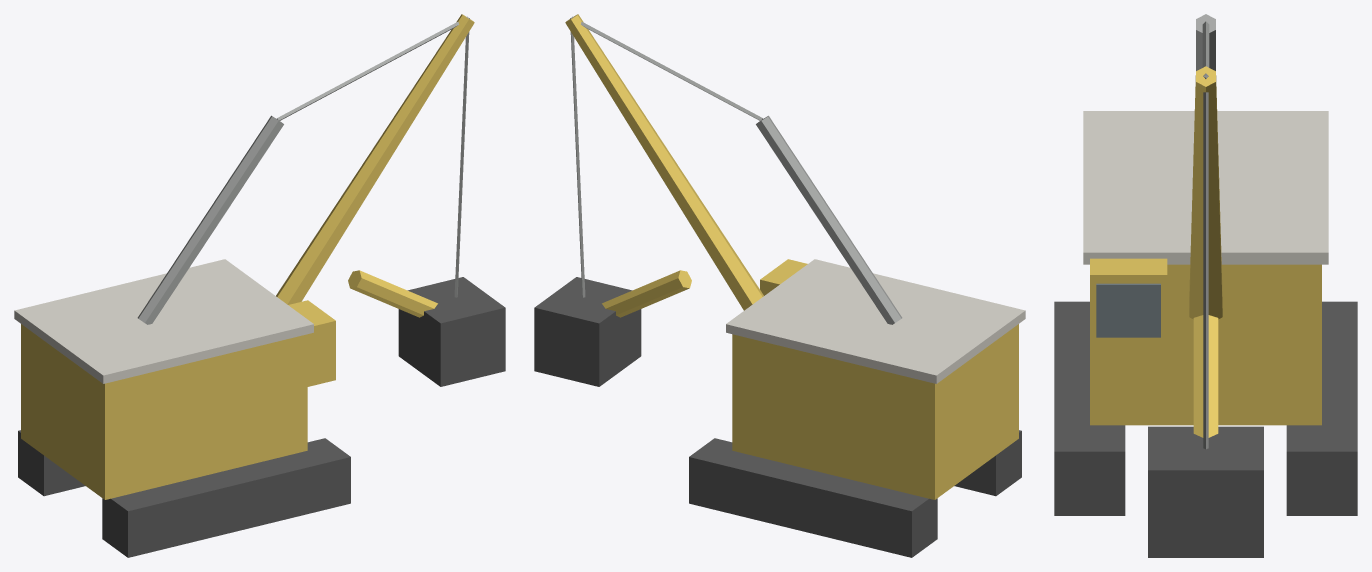
Rendered from ElectricShovel.glb.
The picture shows the model from 3 angles, left to right: view 1: azimuth 30°, elevation 25°; view 2: azimuth 150°, elevation 25°; view 3: azimuth 270°, elevation 25°; orthographic projection. The views are drawn at different scales.
Visible parts, largest first — view 1: Machine house, House roof, Crawler left, Dipper, Limb.061, Limb.062, Operator cab, Crawler right, Limb.064, Limb.065, Limb.063; view 2: Machine house, House roof, Crawler right, Dipper, Limb.061, Limb.062, Crawler left, Limb.064, Limb.065, Limb.063, Operator cab; view 3: House roof, Machine house, Dipper, Crawler left, Crawler right, Limb.061, Operator cab, Cab glass.001, Limb.064, Limb.065, Limb.062.
Part boxes in pixels (x1=…): Machine house: x1=21, y1=324, x2=307, y2=499; House roof: x1=14, y1=259, x2=313, y2=383; Crawler left: x1=102, y1=438, x2=350, y2=557; Dipper: x1=398, y1=277, x2=505, y2=386; Limb.061: x1=276, y1=14, x2=474, y2=304; Limb.062: x1=137, y1=115, x2=283, y2=324; Operator cab: x1=287, y1=300, x2=335, y2=391; Crawler right: x1=18, y1=430, x2=85, y2=496; Limb.064: x1=348, y1=270, x2=437, y2=317; Limb.065: x1=454, y1=18, x2=469, y2=297; Limb.063: x1=277, y1=16, x2=468, y2=120; Machine house: x1=732, y1=324, x2=1018, y2=499; House roof: x1=726, y1=259, x2=1025, y2=383; Crawler right: x1=689, y1=438, x2=937, y2=557; Dipper: x1=534, y1=277, x2=641, y2=386; Limb.061: x1=565, y1=14, x2=763, y2=310; Limb.062: x1=756, y1=115, x2=902, y2=324; Crawler left: x1=954, y1=430, x2=1021, y2=496; Limb.064: x1=602, y1=270, x2=691, y2=317; Limb.065: x1=570, y1=18, x2=585, y2=297; Limb.063: x1=571, y1=16, x2=762, y2=120; Operator cab: x1=760, y1=259, x2=807, y2=295; House roof: x1=1083, y1=111, x2=1328, y2=264; Machine house: x1=1090, y1=264, x2=1321, y2=425; Dipper: x1=1148, y1=426, x2=1263, y2=557; Crawler left: x1=1054, y1=301, x2=1125, y2=515; Crawler right: x1=1286, y1=301, x2=1357, y2=515; Limb.061: x1=1189, y1=66, x2=1222, y2=319; Operator cab: x1=1090, y1=258, x2=1167, y2=356; Cab glass.001: x1=1096, y1=283, x2=1160, y2=337; Limb.064: x1=1193, y1=315, x2=1218, y2=437; Limb.065: x1=1203, y1=76, x2=1208, y2=449; Limb.062: x1=1196, y1=14, x2=1215, y2=70.
Bounding box in the file's own units: 10.5 × 9.61 × 4.7.
